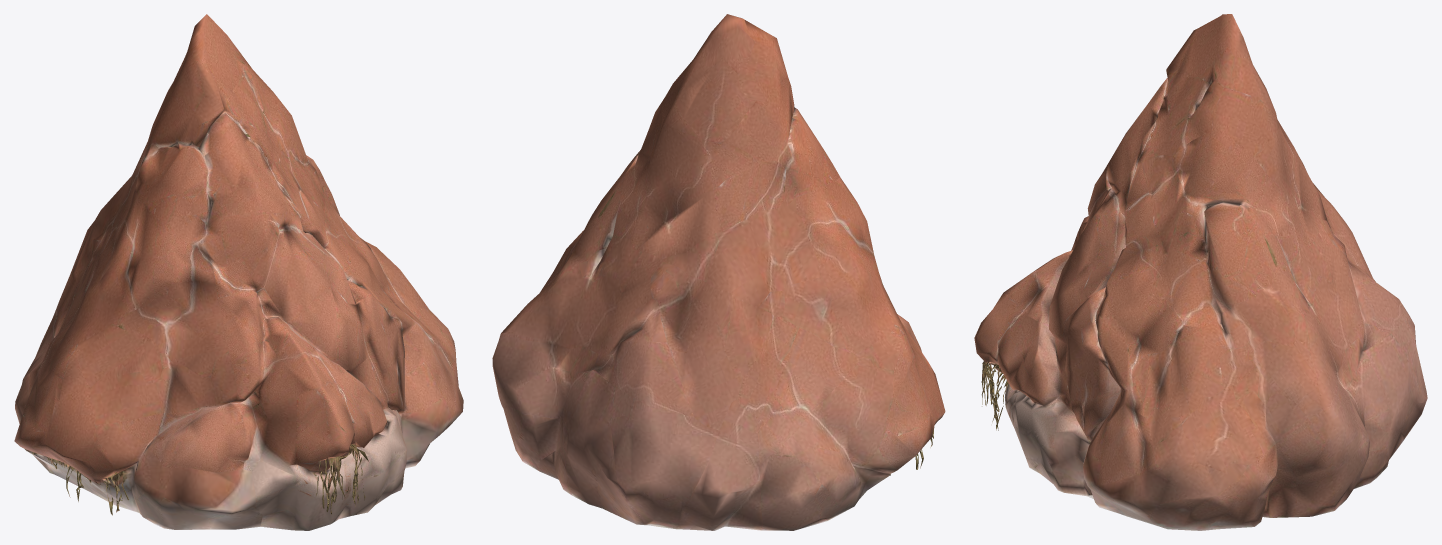
Rendered from lamplight-underside-ar2.glb.
3 views of the same model, side by side, from view 1: azimuth 30°, elevation 25°; view 2: azimuth 150°, elevation 25°; view 3: azimuth 270°, elevation 25° (orthographic). The views are drawn at different scales.
Bounding box in the file's own units: 1.85 × 1.9 × 1.83.
1 material, 1 textured.
